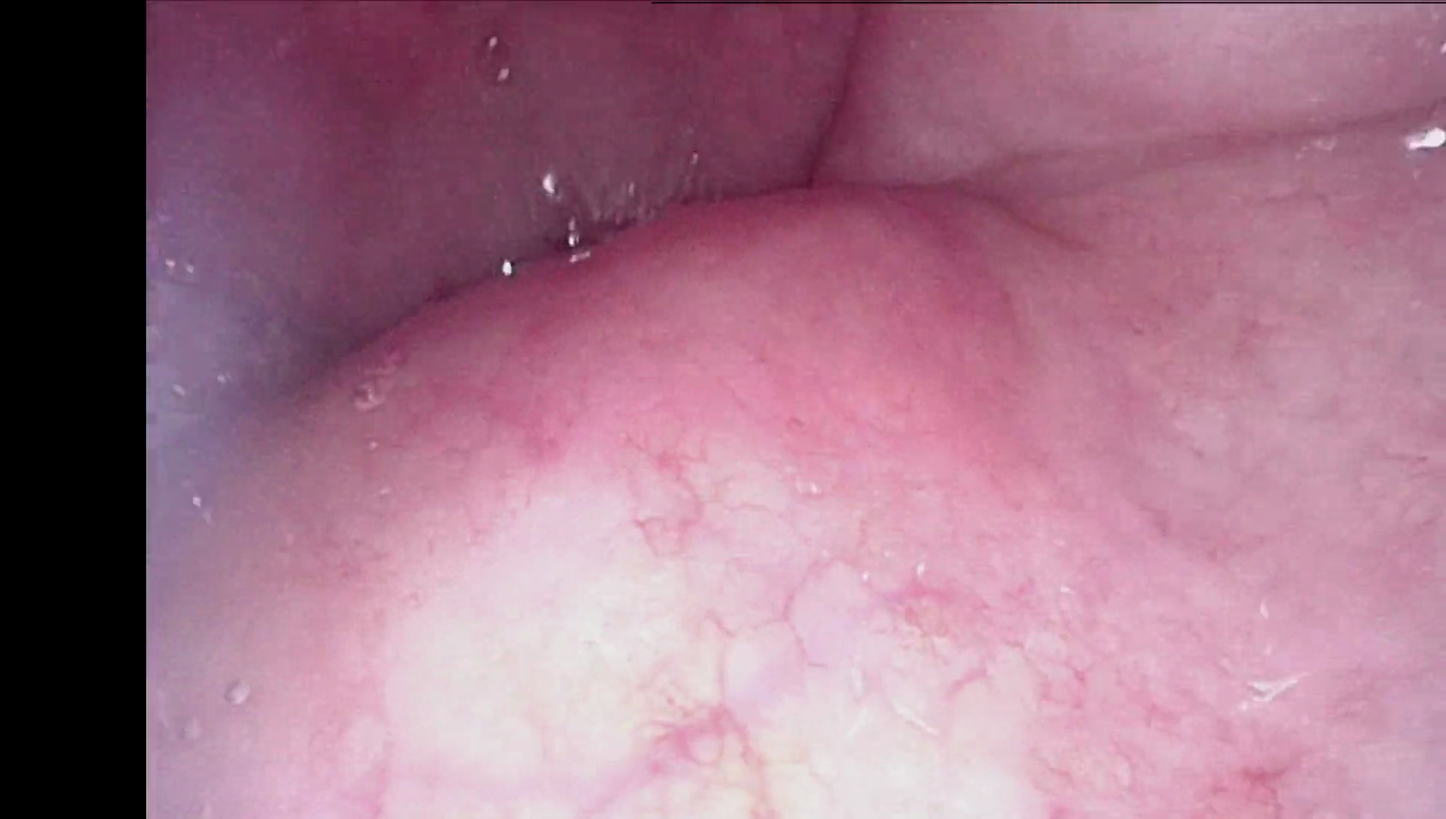close_wall: (310, 391, 1181, 819)
